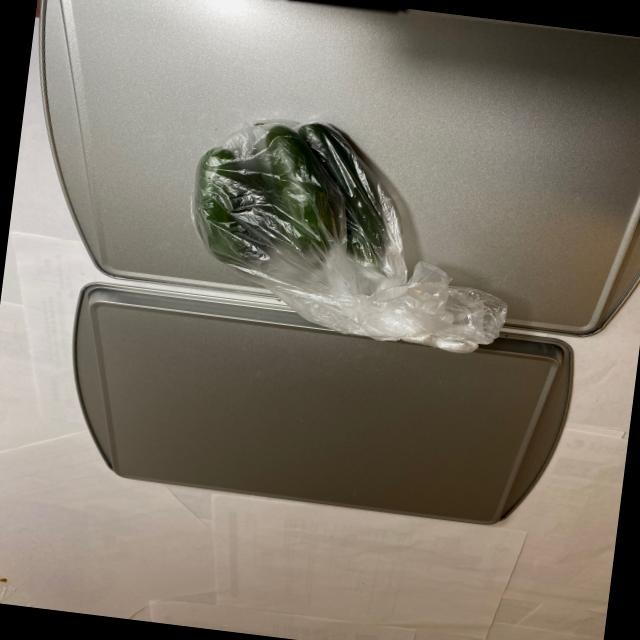chilli: (175, 108, 438, 317)
